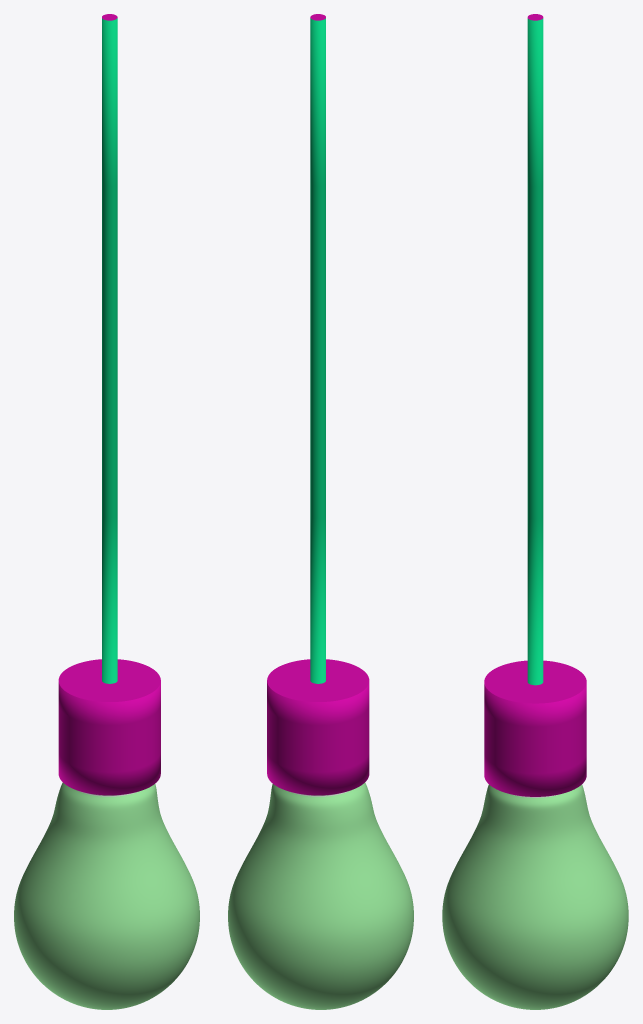
The model's file is ilichLamp.fbx.
3 renders of one model, left to right at view 1: azimuth 30°, elevation 25°; view 2: azimuth 150°, elevation 25°; view 3: azimuth 270°, elevation 25°, orthographic.
Parts seen in each view (by area): view 1: Цилиндр; view 2: Цилиндр; view 3: Цилиндр.
Boxes of the visible parts, x1,y1,x2,y2 form: Цилиндр: [14, 14, 199, 1009]; Цилиндр: [228, 14, 413, 1009]; Цилиндр: [442, 14, 628, 1009].
Bounding box in the file's own units: 362 × 2111 × 362.
